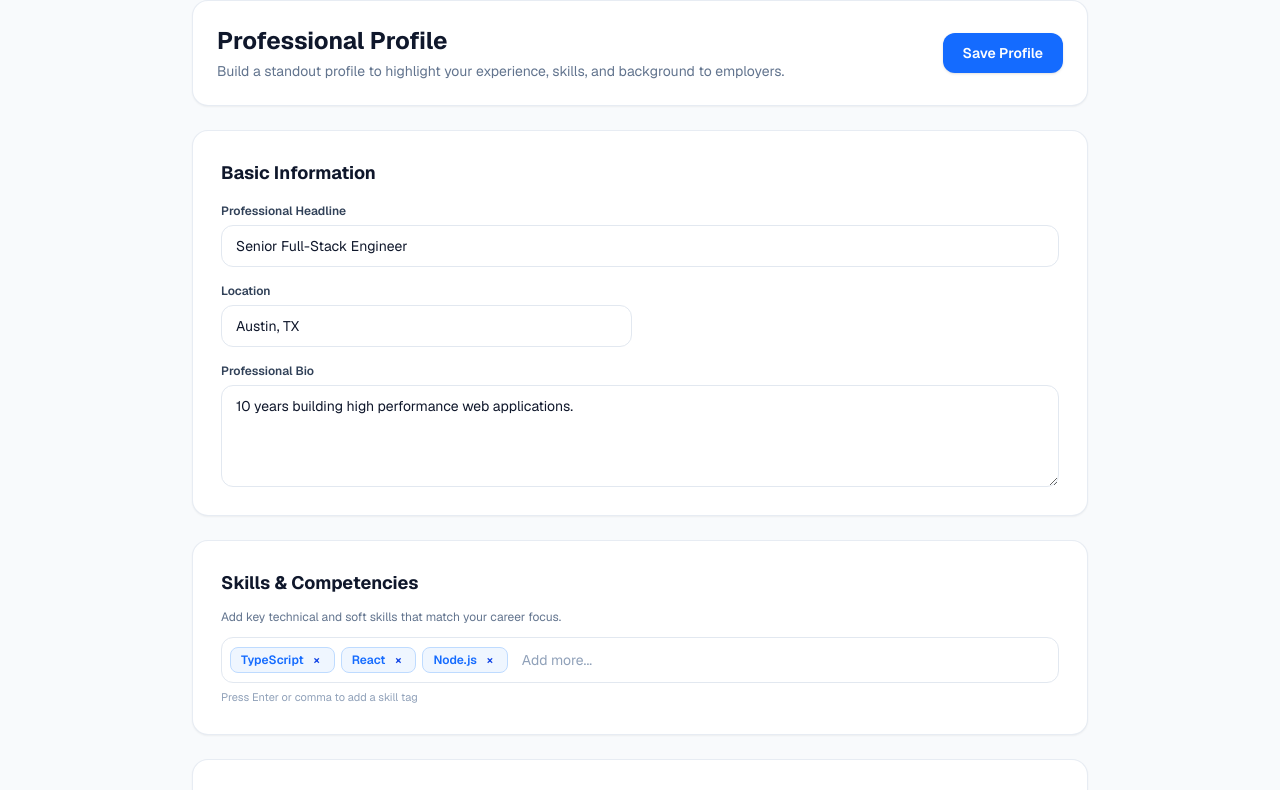
Test: SeekerProfilePage Component › submits updated profile payload to backend patch endpoint
This screenshot has width=1280, height=790.
Replace the text in the field labelled "Professional Headline" with "Lead Cloud Architect" at (640, 246), box [221,225,1059,267]
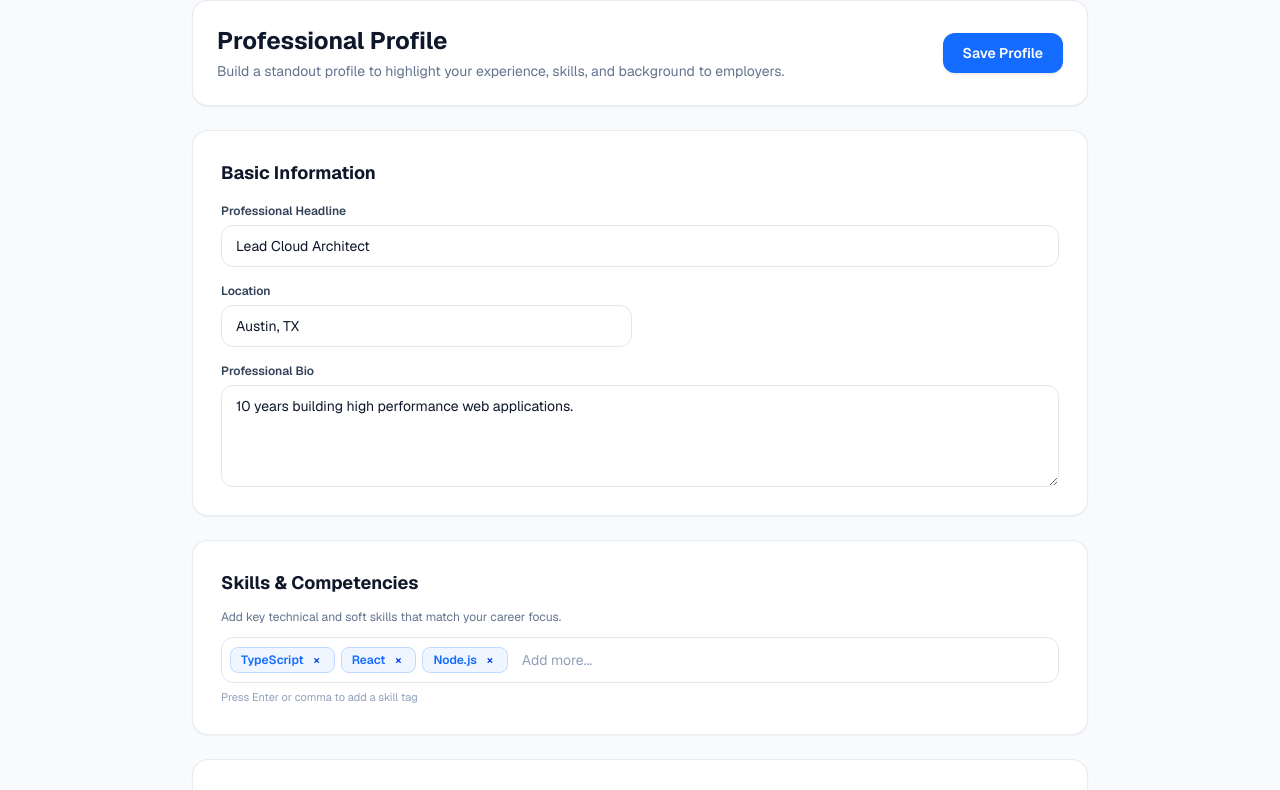
Click the button "Save Profile" at (1003, 53), box [942,33,1063,73]
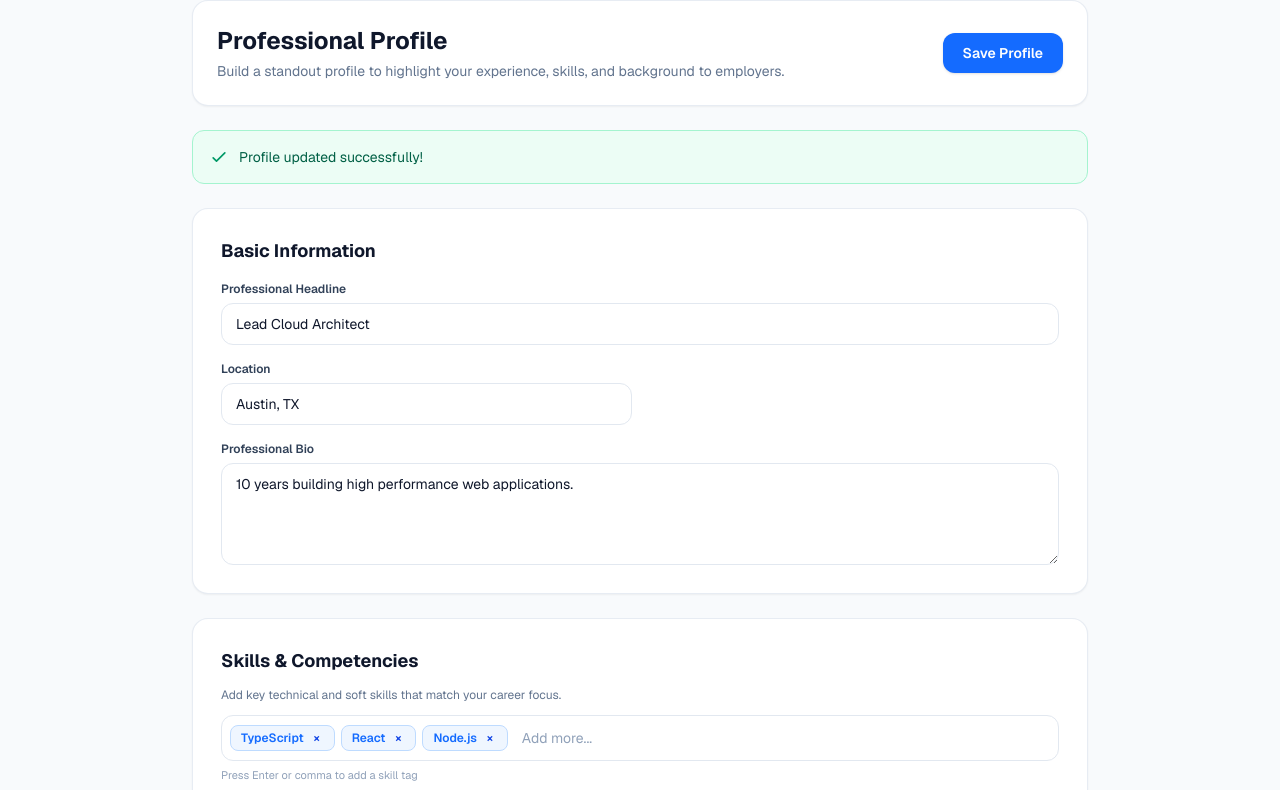
expect the text "Profile updated successfully!" is shown: met, box [239,147,423,167]
